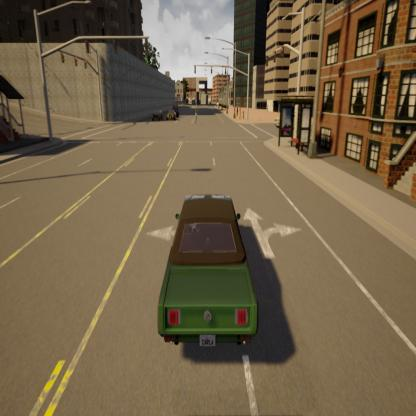Cars: (149, 181, 267, 357), (165, 107, 178, 121), (170, 102, 181, 117), (152, 109, 163, 121)
Pedestrian: (191, 102, 200, 126)
